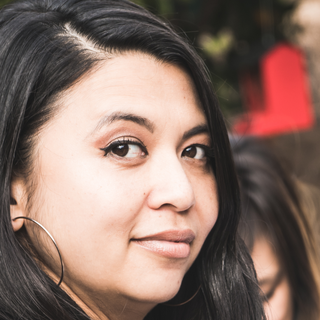eye: (97, 131, 151, 165), (179, 138, 214, 169)
